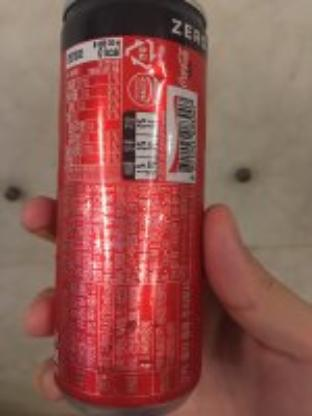Can: (54, 0, 209, 416)
